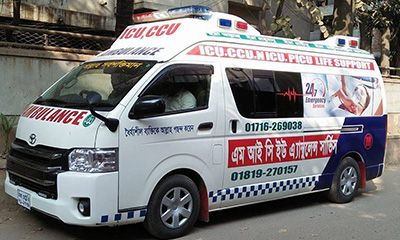ambulance: (3, 4, 389, 240)
